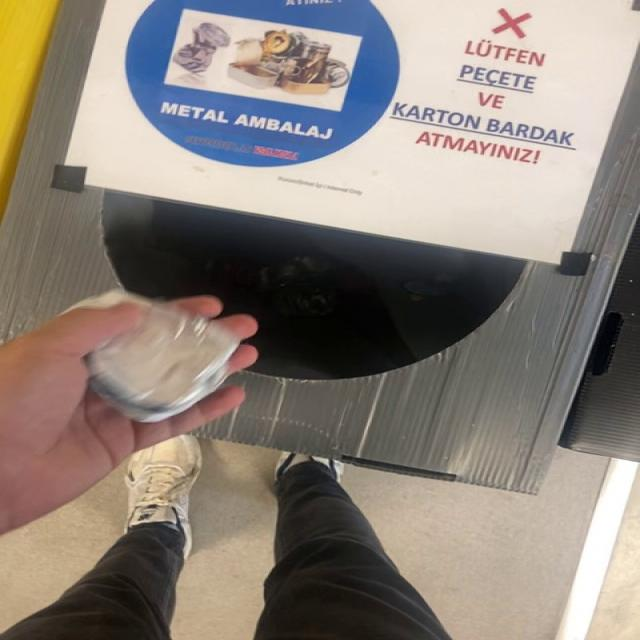metal: (68, 289, 240, 423)
